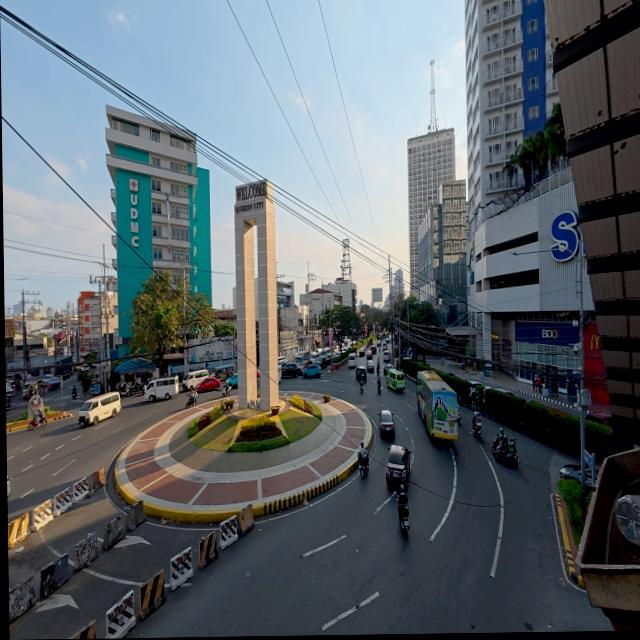Jeepneys: (211, 364, 236, 382)
bus: (417, 371, 458, 439)
car: (386, 445, 410, 488), (379, 409, 395, 436), (196, 377, 221, 393), (387, 369, 405, 391), (560, 464, 580, 483), (587, 412, 611, 426), (281, 363, 299, 378), (303, 364, 321, 378), (469, 380, 483, 396), (23, 384, 37, 399), (298, 360, 312, 374), (356, 366, 367, 382), (494, 388, 515, 396), (318, 354, 330, 368), (383, 363, 393, 377), (228, 374, 238, 388), (367, 360, 375, 373), (42, 374, 54, 382), (0, 404, 6, 418), (80, 364, 90, 372), (63, 371, 72, 379), (7, 475, 10, 498), (366, 351, 372, 360), (359, 348, 364, 357), (371, 346, 376, 355), (382, 343, 388, 350), (377, 340, 382, 348), (257, 368, 261, 378)
motorcycle: (493, 437, 518, 467), (28, 412, 47, 431), (399, 504, 409, 536), (472, 412, 482, 437), (359, 458, 369, 477), (473, 417, 482, 438), (186, 395, 197, 408), (223, 382, 231, 397), (71, 388, 77, 401), (457, 409, 461, 423), (360, 382, 364, 394), (378, 384, 382, 394), (378, 366, 381, 375)
trucks: (293, 351, 310, 364)
vans: (79, 392, 121, 425), (146, 376, 178, 401), (183, 370, 209, 391), (348, 353, 356, 368), (310, 352, 320, 362), (277, 357, 286, 367), (383, 350, 389, 361)
